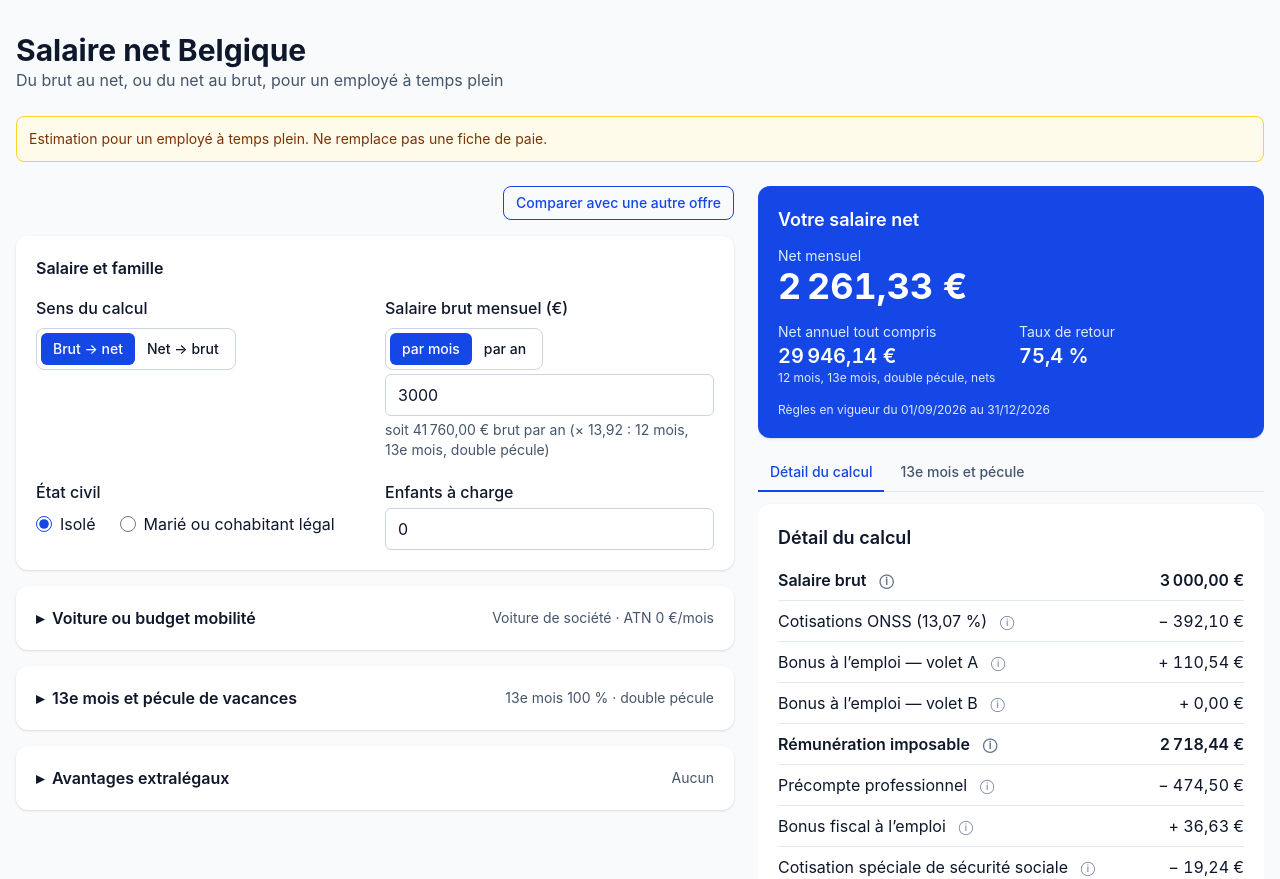
Test: App › n’affiche « parent isolé » que pour un isolé avec au moins un enfant
Expected: the field labelled "parent isolé" is not shown
Clear the number field labelled "Enfants à charge" at (550, 529), box [385,508,714,550]
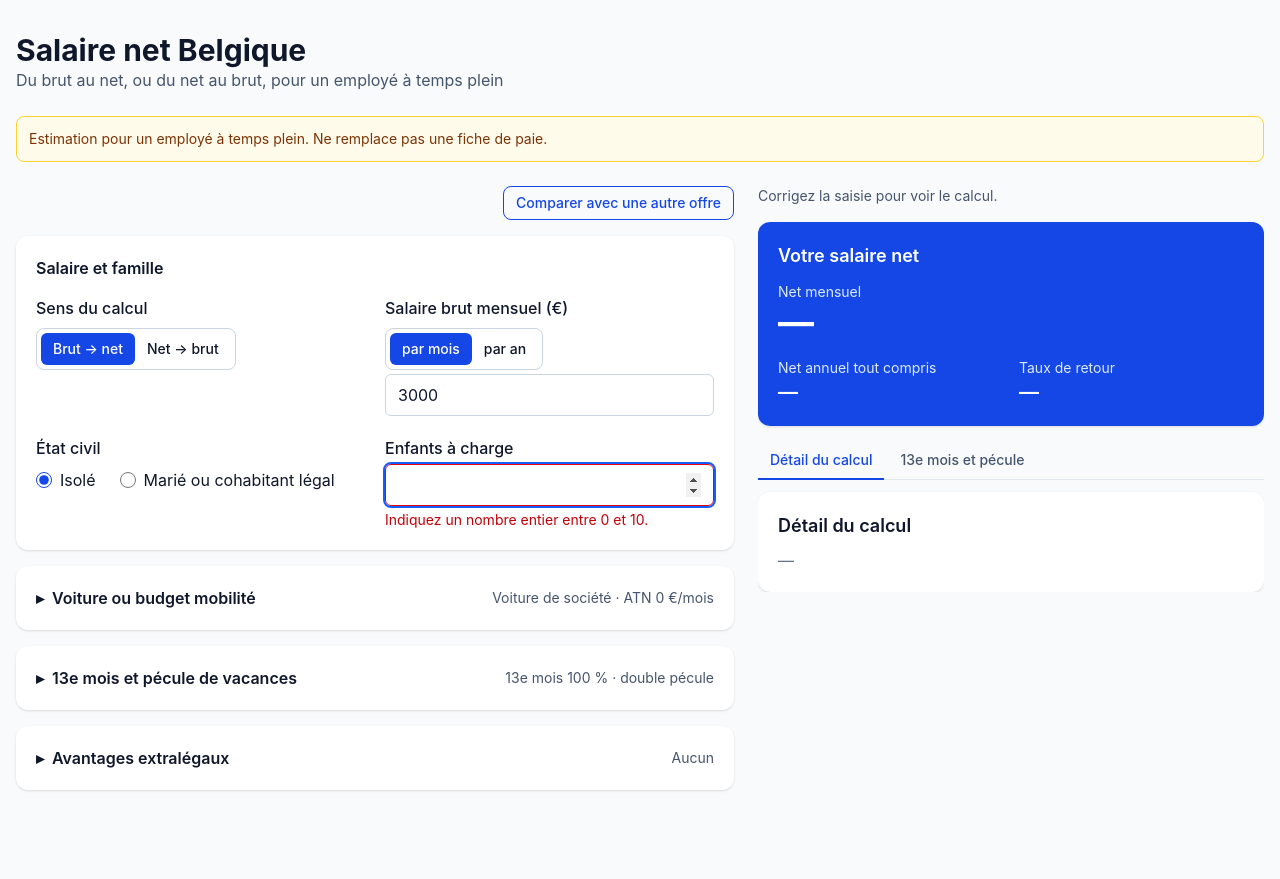
Type "1" into the number field labelled "Enfants à charge" at (550, 485), box [385,464,714,506]
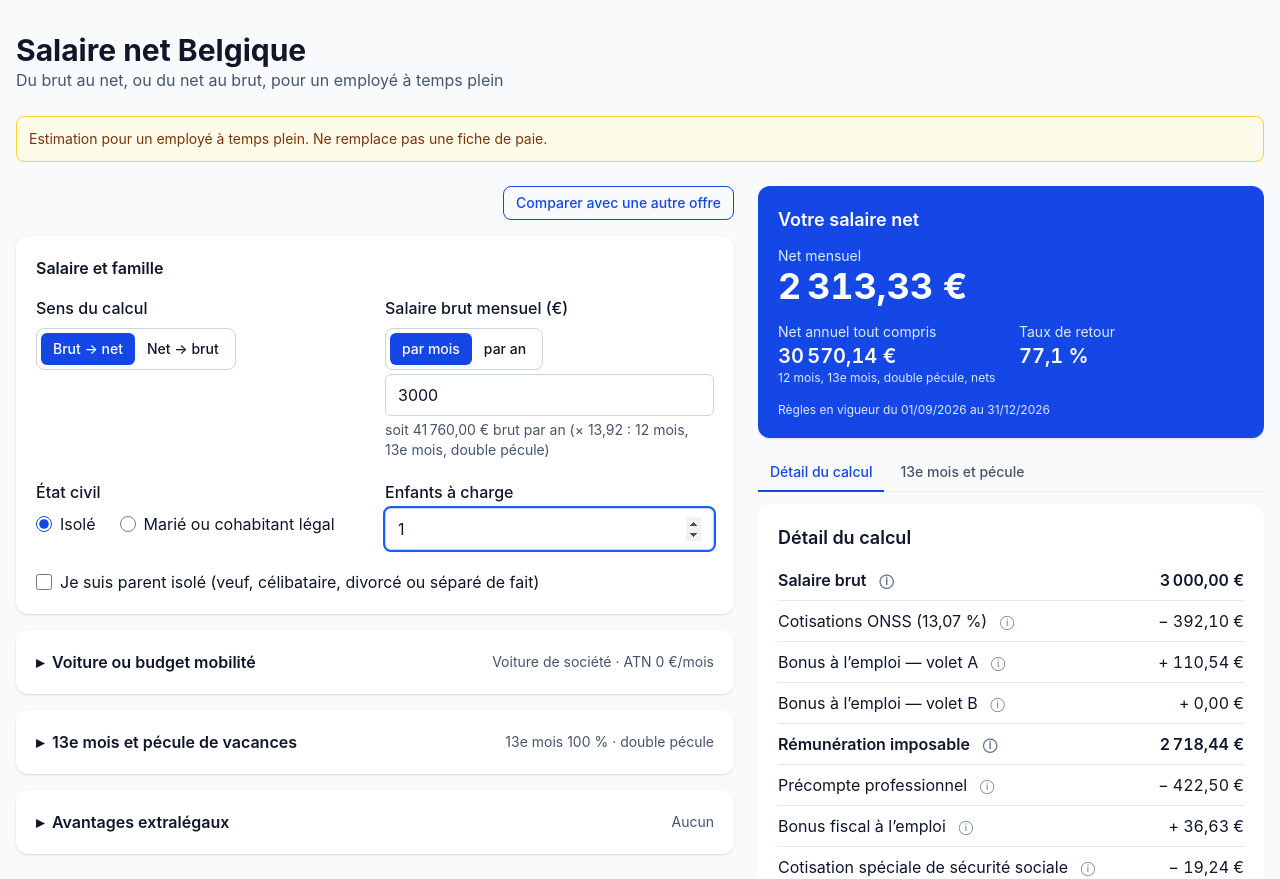
Expected: the checkbox labelled "parent isolé" is shown, [36,574,52,590]
Click the radio button labelled "Marié ou cohabitant légal" at (128, 524), box [120,516,136,532]
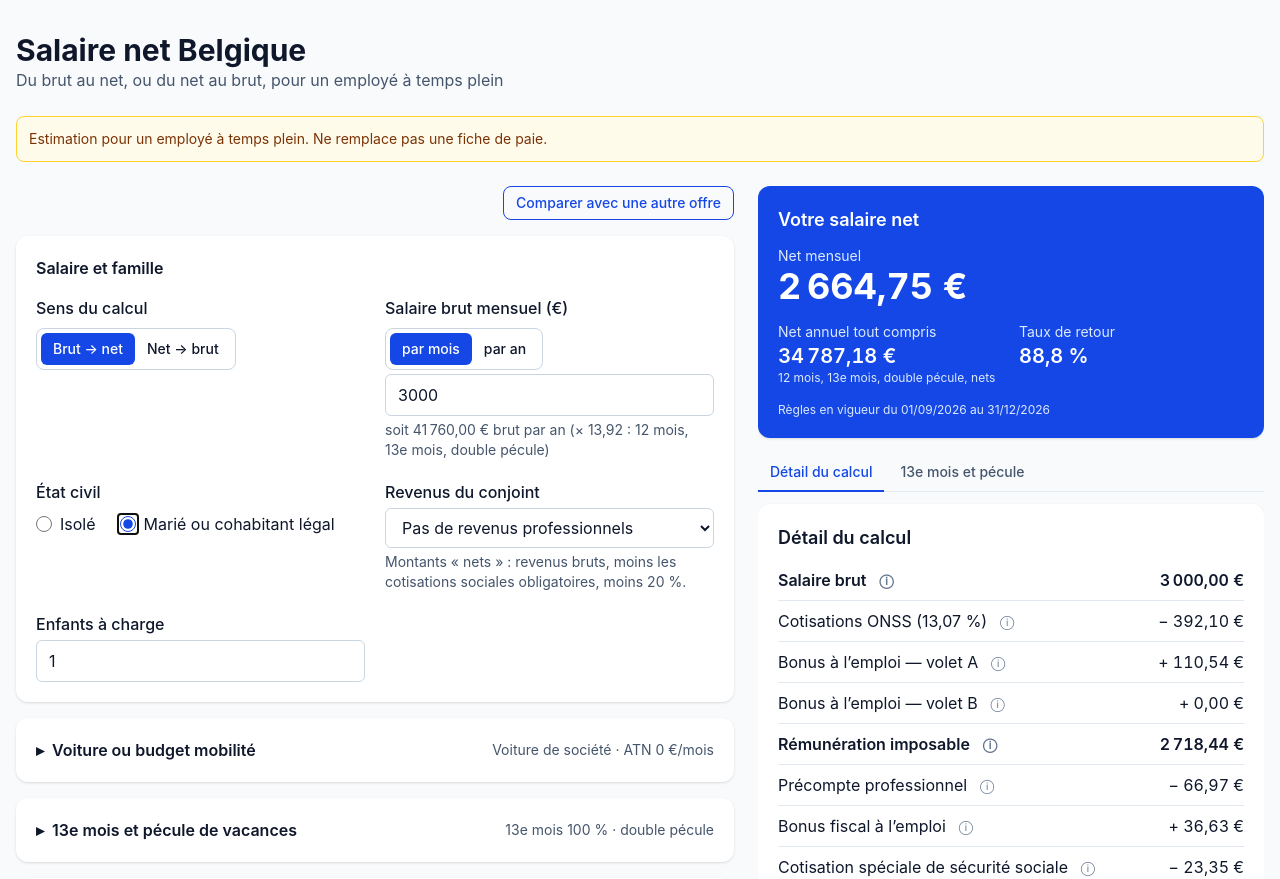
Expected: the label labelled "parent isolé" is gone
